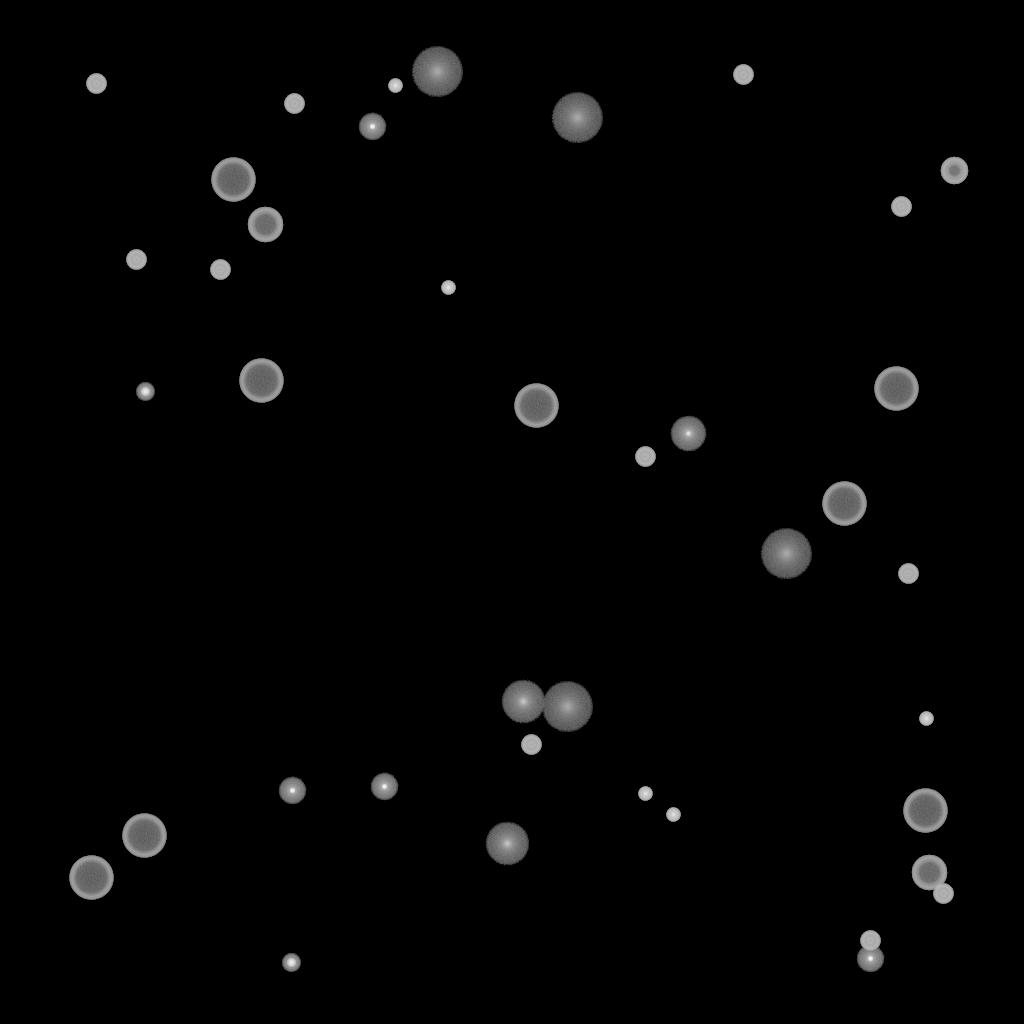depth:-10: (370, 773, 398, 801), (358, 113, 386, 141), (278, 777, 306, 805), (856, 945, 884, 973)
depth:-20: (136, 383, 154, 401), (282, 954, 300, 972)
depth:-30: (919, 712, 933, 726), (666, 808, 680, 822), (441, 281, 455, 295), (388, 79, 402, 93), (638, 787, 652, 801)
depth:-40: (733, 65, 753, 85), (210, 260, 230, 280), (898, 564, 918, 584), (635, 447, 655, 467), (126, 250, 146, 270), (933, 884, 953, 904), (891, 197, 911, 217), (860, 931, 880, 951), (86, 74, 106, 94), (284, 94, 304, 114), (521, 735, 541, 755)
depth:-50: (940, 157, 968, 185)
depth:-60: (247, 207, 283, 243), (911, 855, 947, 891)
depth:-70: (239, 359, 283, 403), (874, 367, 918, 411), (903, 789, 947, 833), (514, 384, 558, 428), (69, 856, 113, 900), (122, 814, 166, 858), (822, 482, 866, 526), (211, 158, 255, 202)
depth:0: (670, 416, 706, 452)
depth:10: (501, 680, 545, 724), (485, 822, 529, 866)
depth:20: (541, 682, 593, 732), (760, 529, 812, 579), (551, 93, 603, 143), (411, 47, 463, 97)
